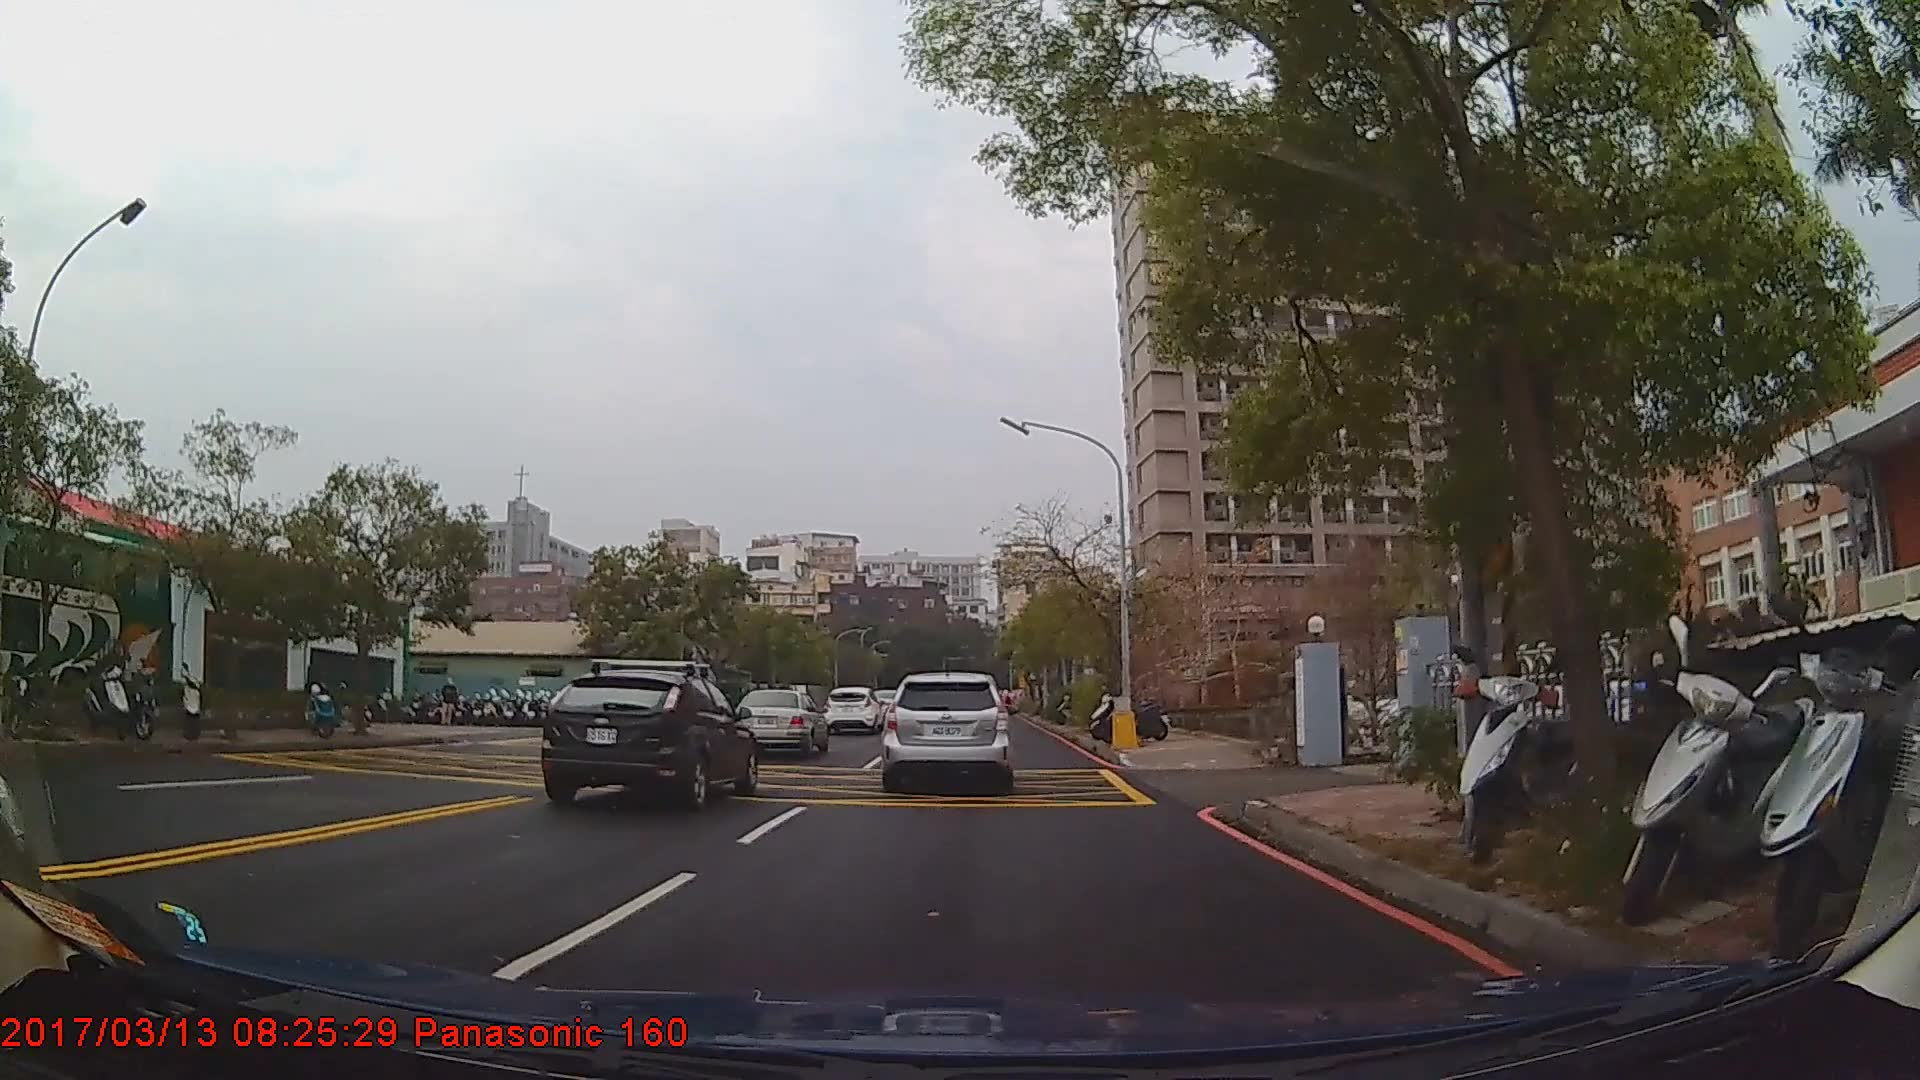pedestrian: (440, 680, 460, 728)
vehicle: (0, 503, 174, 727), (539, 668, 757, 810), (884, 671, 1009, 786), (731, 687, 825, 756), (823, 686, 884, 736)
